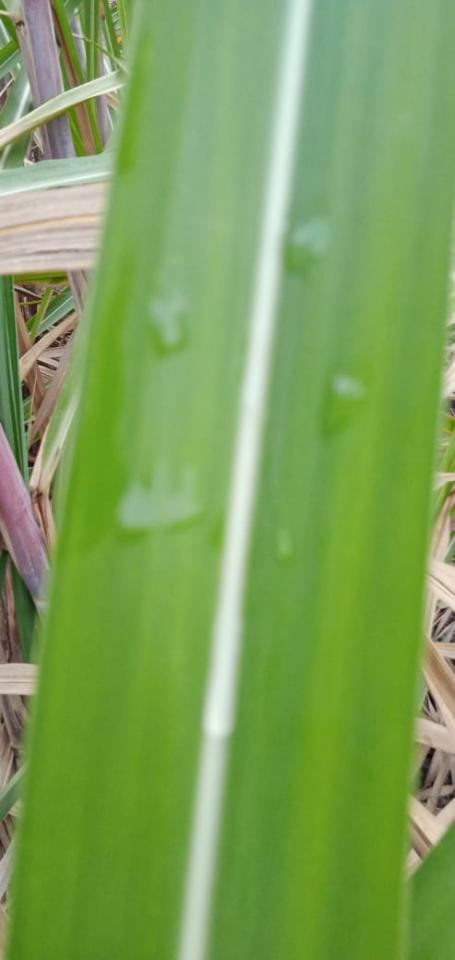Healthy: (6, 0, 454, 958), (397, 817, 454, 959)
